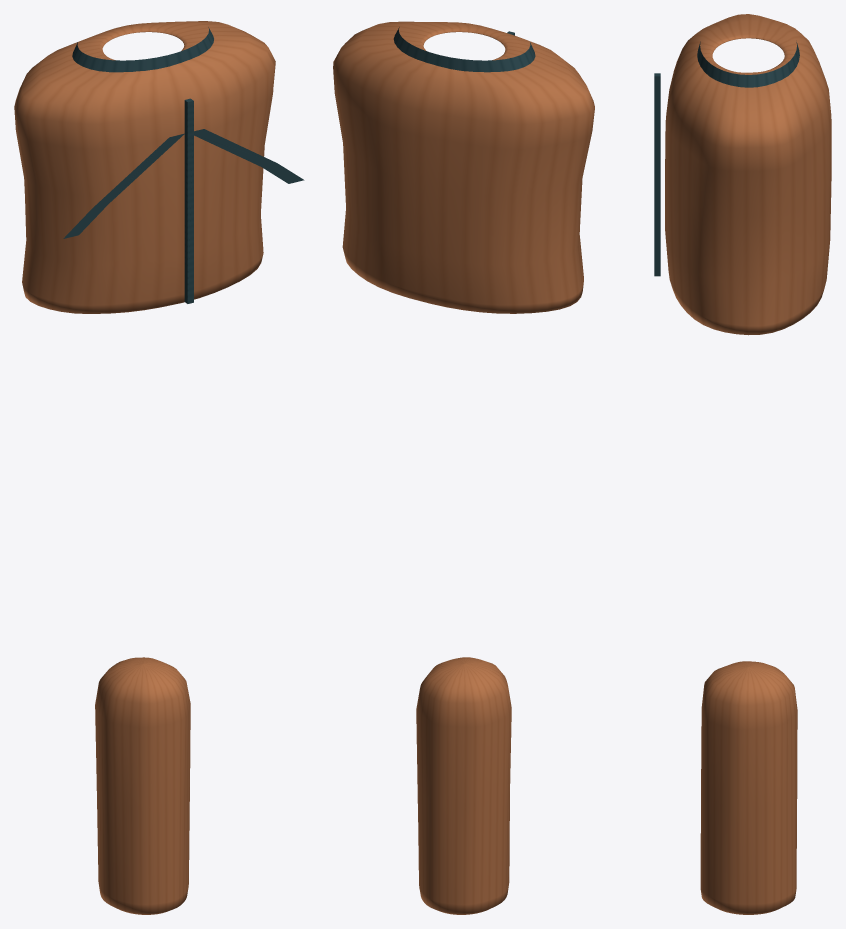
Rendered from reference_campus_jacket.gltf.
The picture shows the model from 3 angles, left to right: view 1: azimuth 30°, elevation 25°; view 2: azimuth 150°, elevation 25°; view 3: azimuth 270°, elevation 25°; orthographic projection.
Visible parts, largest first — view 1: Torso, SleeveL; view 2: Torso, SleeveL; view 3: Torso, SleeveL.
Part boxes in pixels (x1,y1,x2,y2): Torso: (14,21,304,313); SleeveL: (95,657,190,914); Torso: (333,21,594,313); SleeveL: (416,657,511,914); Torso: (654,14,831,335); SleeveL: (700,661,797,914).
Size of the model in its own units: 0.5276 by 1.75 by 0.3293.
2 materials, 2 textured.
